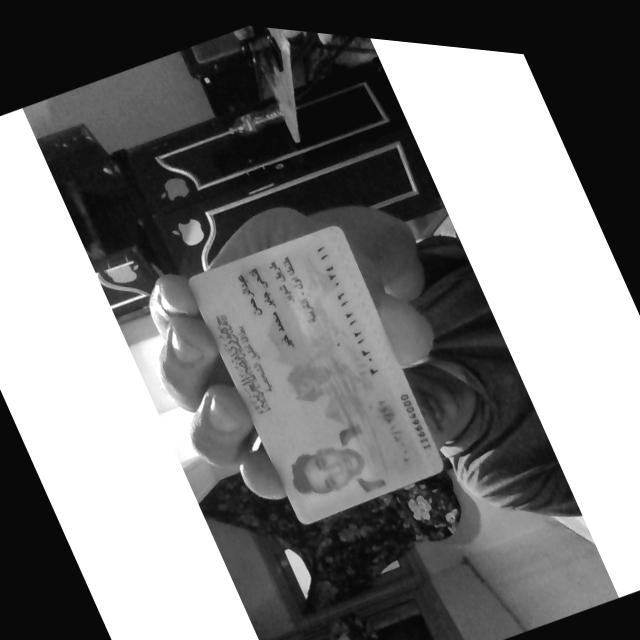front: (189, 227, 442, 525)
